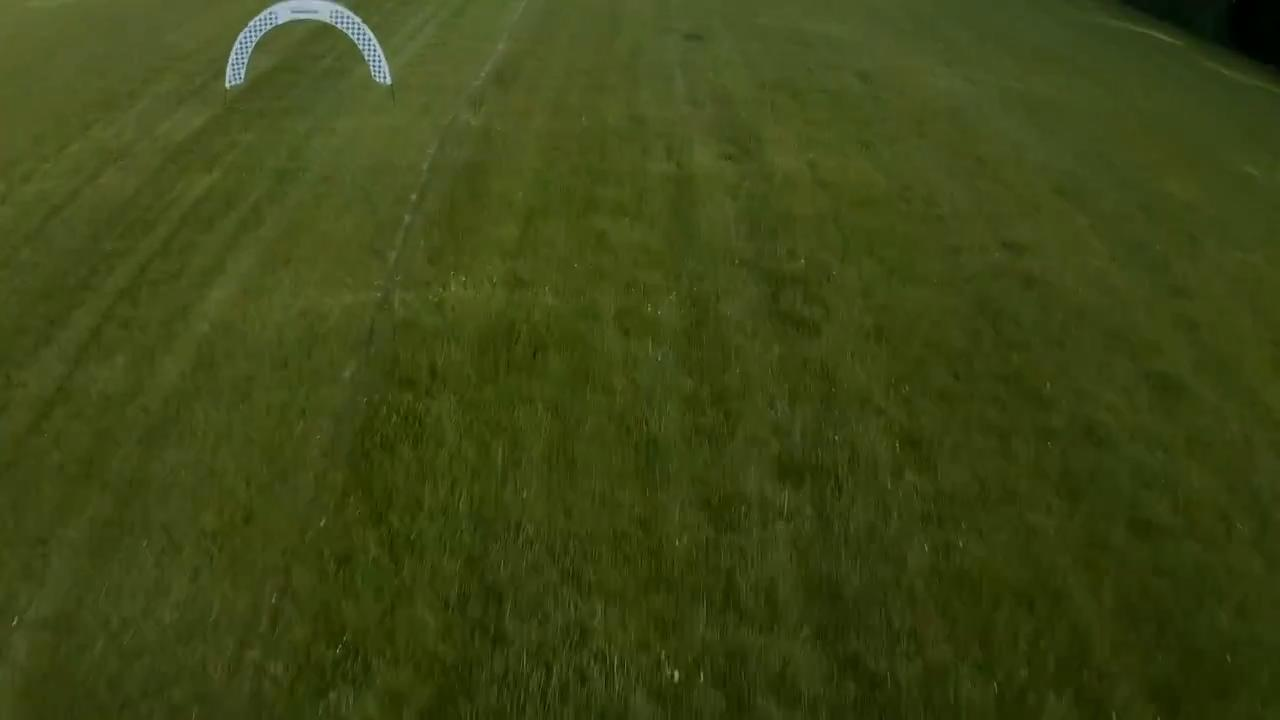gate: (215, 1, 390, 90)
